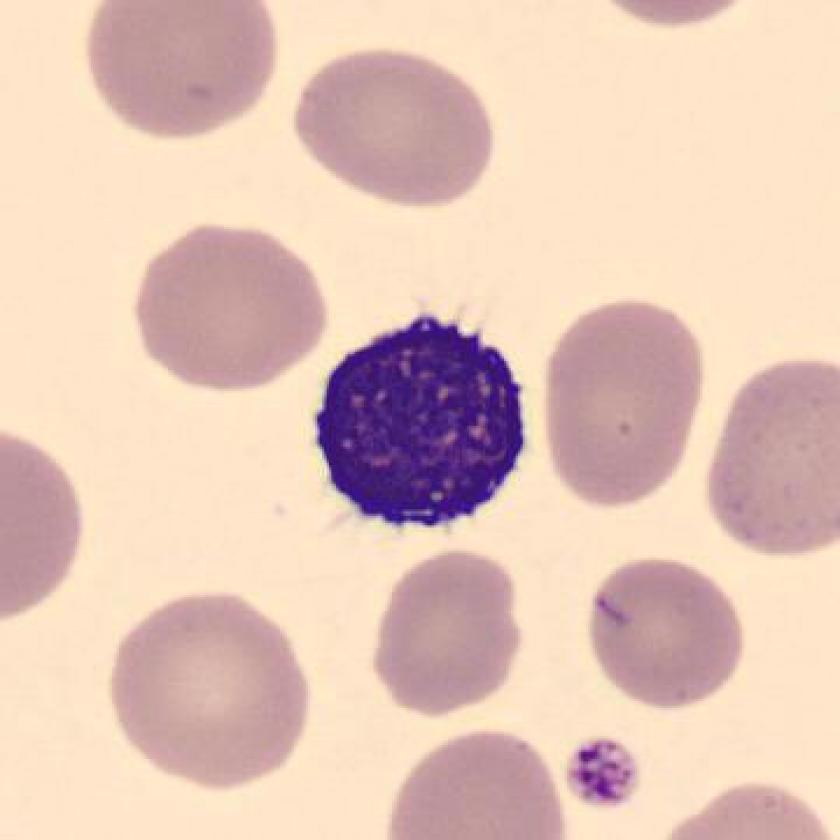lymphocyte: (298, 300, 550, 547)
